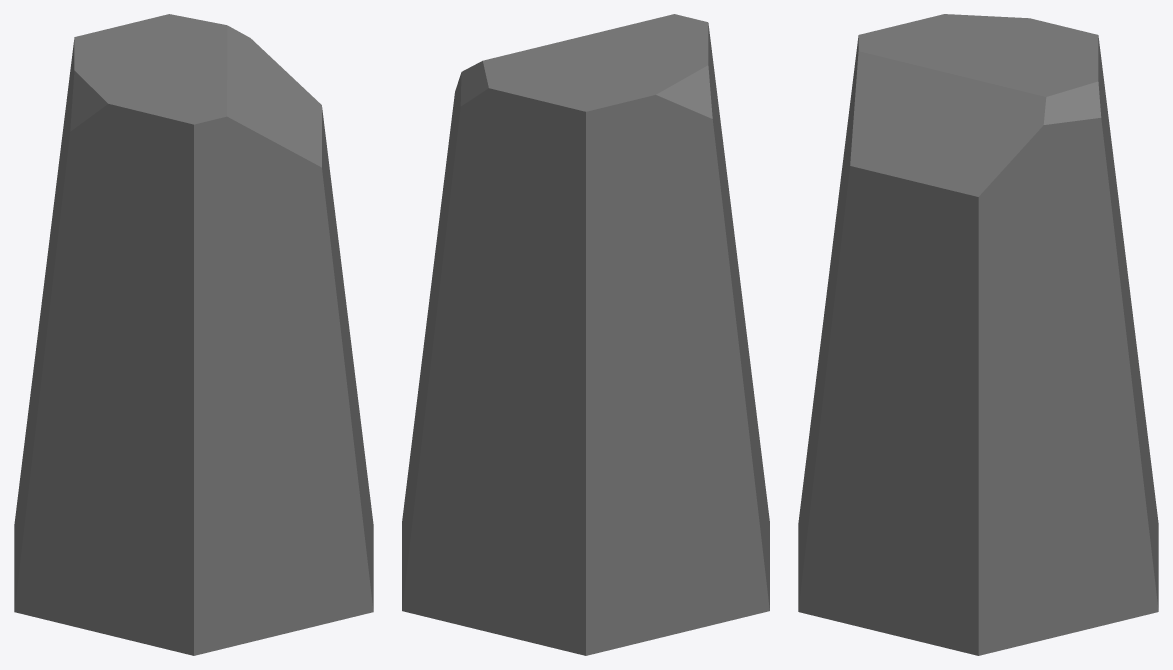
File: rock1.fbx
The picture shows the model from 3 angles, left to right: view 1: azimuth 30°, elevation 25°; view 2: azimuth 150°, elevation 25°; view 3: azimuth 270°, elevation 25°; orthographic projection. The views are drawn at different scales.
Visible parts, largest first — view 1: rock13; view 2: rock13; view 3: rock13.
Part boxes in pixels (x1,y1,x2,y2): rock13: [14, 14, 373, 655]; rock13: [402, 14, 769, 655]; rock13: [798, 14, 1158, 655].
Size of the model in its own units: 224 by 299 by 194.
